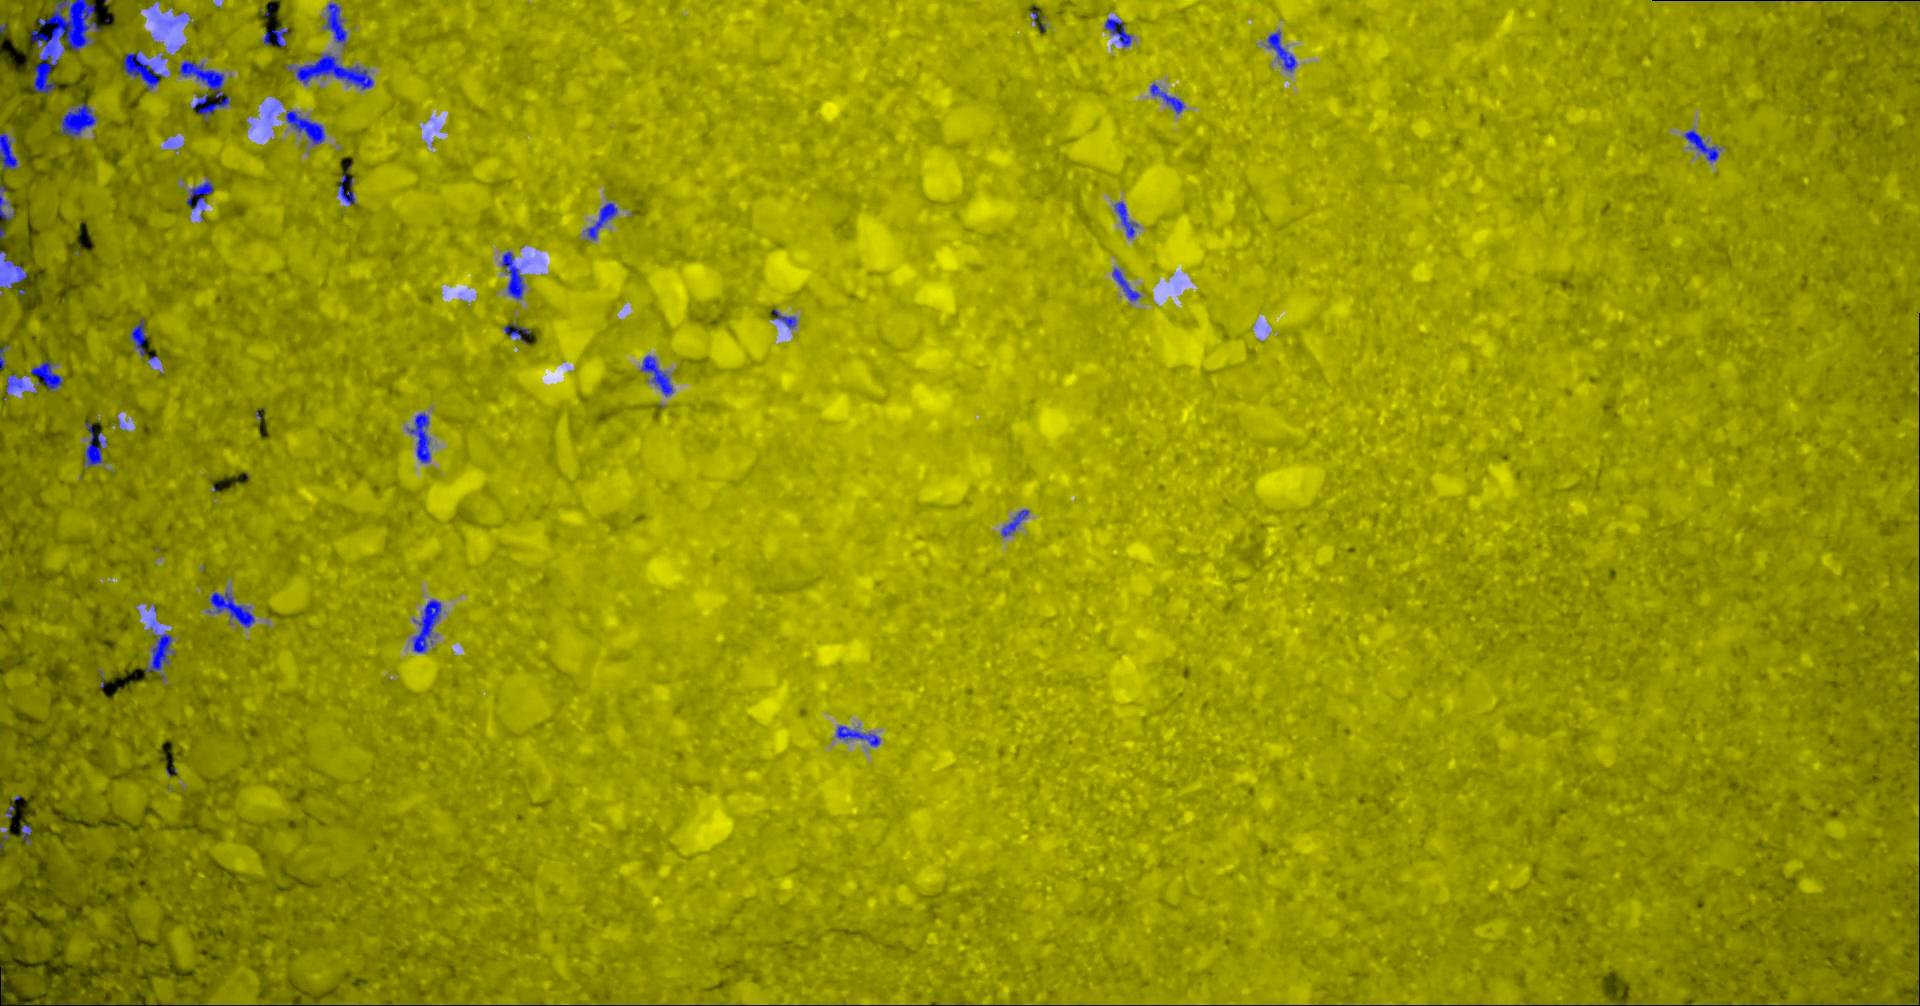ant: (178, 60, 229, 116), (210, 591, 254, 627), (122, 51, 163, 90), (411, 600, 441, 652), (58, 103, 97, 138), (640, 354, 673, 395), (284, 111, 324, 144), (143, 633, 174, 672), (1267, 30, 1297, 71), (585, 202, 617, 239), (408, 412, 430, 462), (1684, 130, 1718, 161), (502, 251, 524, 298), (1149, 83, 1183, 113), (84, 420, 107, 466), (0, 250, 25, 288), (30, 361, 63, 389), (1112, 267, 1139, 300), (836, 725, 879, 746), (1114, 201, 1137, 238), (185, 180, 213, 210), (325, 3, 345, 42), (1103, 18, 1131, 46), (1001, 509, 1029, 536), (0, 131, 17, 169), (130, 318, 145, 356), (263, 27, 290, 46), (338, 174, 354, 203), (503, 323, 530, 339), (773, 307, 796, 326), (5, 373, 23, 392), (0, 196, 11, 218), (20, 824, 30, 843)
